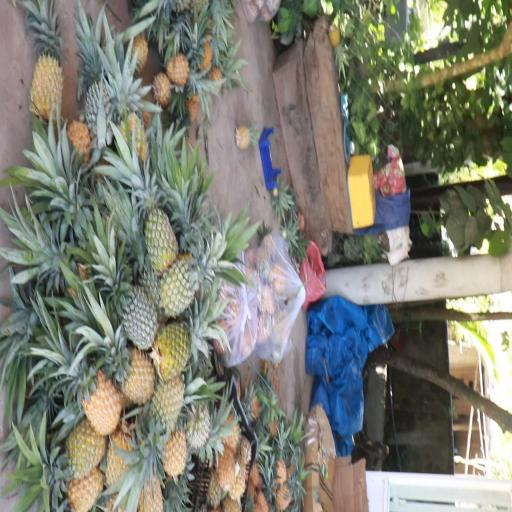------------------------------: (126, 153, 181, 266), (152, 302, 228, 374), (158, 237, 228, 312)
Pineapple - v8 v1: (130, 378, 184, 494), (64, 348, 124, 430), (27, 23, 66, 125), (46, 416, 109, 476), (102, 334, 156, 400)
